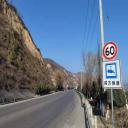speed_limit_60: (103, 41, 117, 59)
